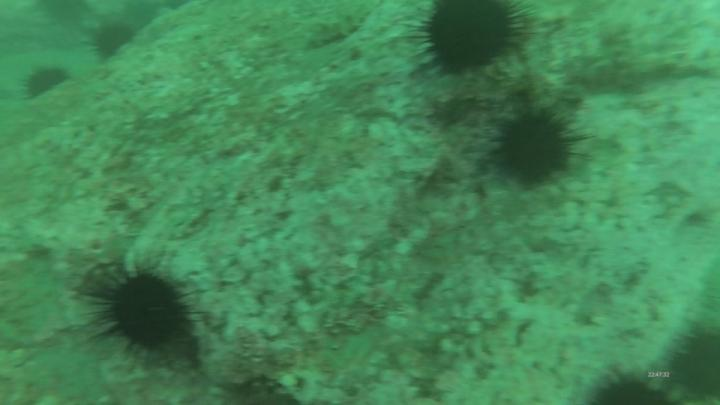echinus: (416, 1, 529, 78), (98, 264, 193, 355), (490, 105, 579, 192), (666, 324, 720, 405), (588, 369, 677, 405), (91, 23, 137, 58), (25, 66, 68, 98), (38, 1, 88, 25)
holothurian: (302, 8, 370, 57)
